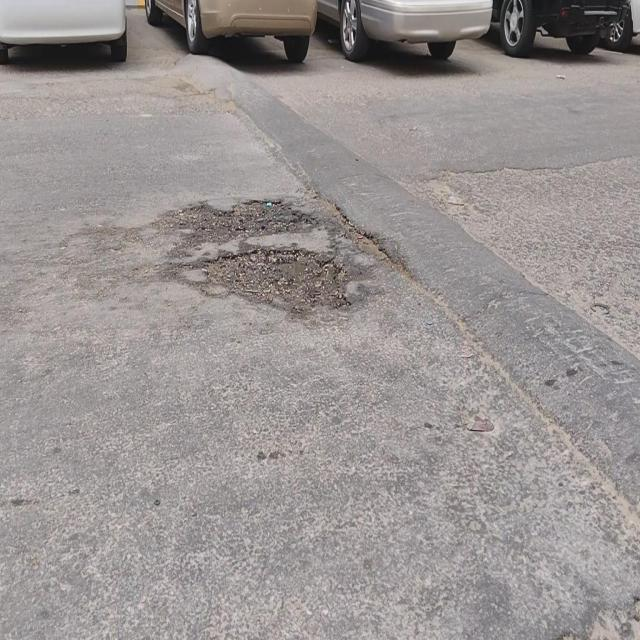Potholes: (202, 253, 351, 316), (183, 197, 315, 247)
